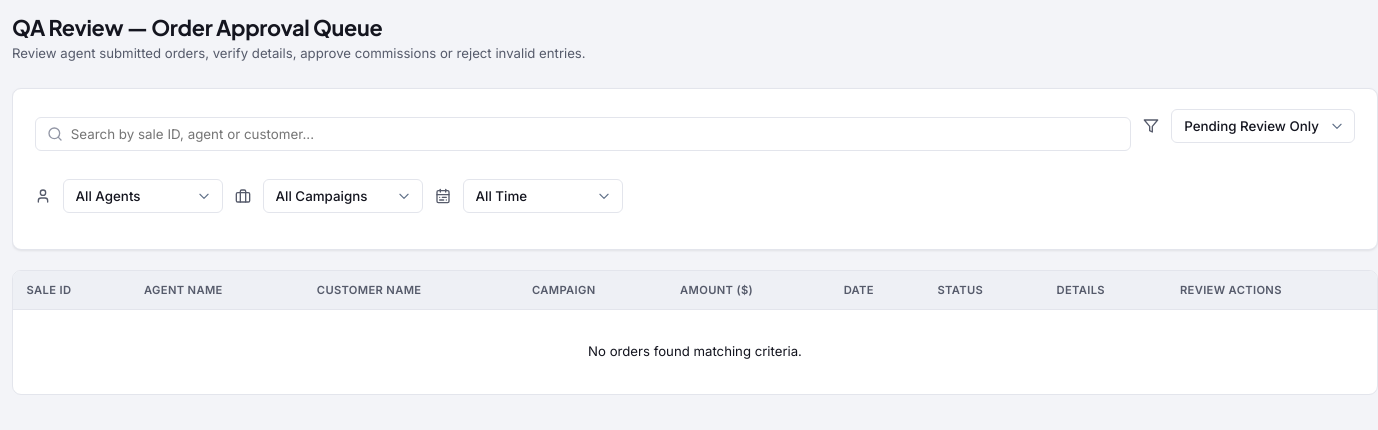
Test: QASalesApproval campaign filter › filters the table down to just the selected campaign
The image size is (1378, 430).
Select "All Statuses" in the 1st dropdown showing "pending review only": (1263, 126) [1171,109,1355,143]
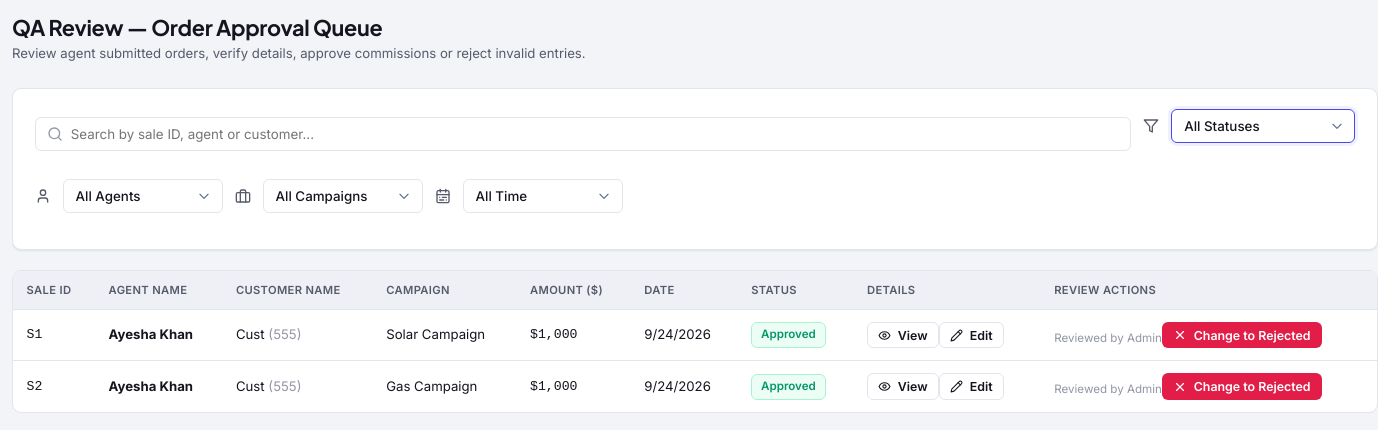
Now the text "S1" is shown, box [13,309,95,361]
Now the text "S2" is shown, box [13,361,95,412]
Select "Gas Campaign" in the dropdown named "filter by campaign": (343, 196) [263,179,423,213]
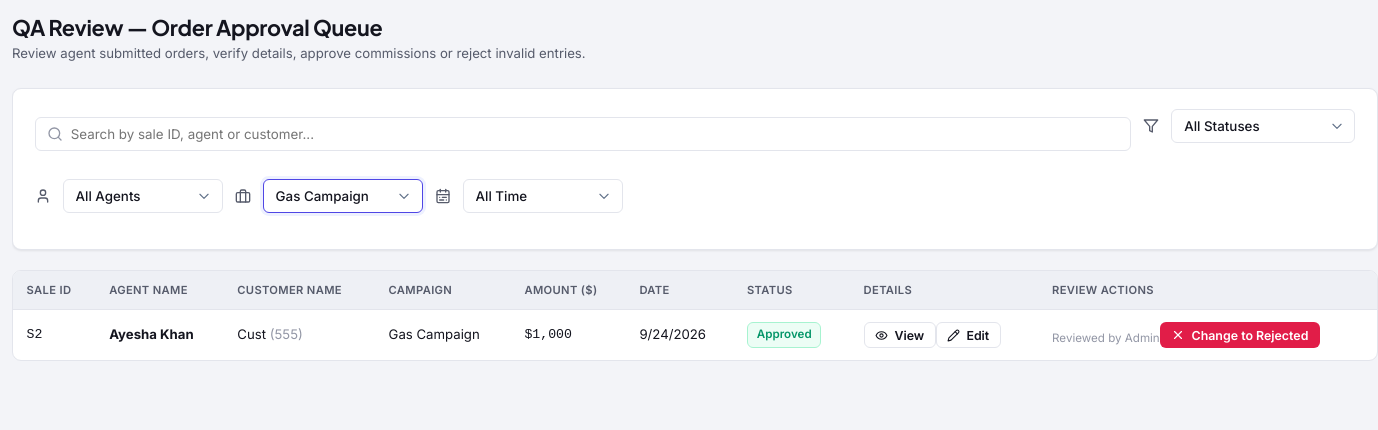
Now the text "S2" is shown, box [13,309,96,360]
Now the text "S1" is gone
